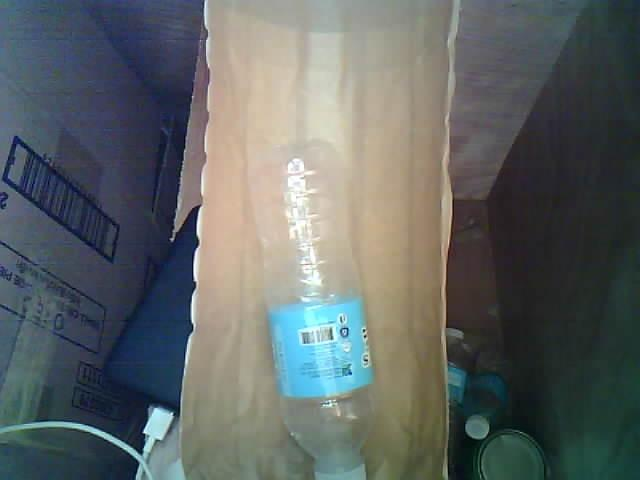small_bottle: (230, 121, 389, 480)
